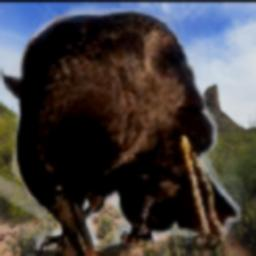Crow: (0, 6, 241, 256)
